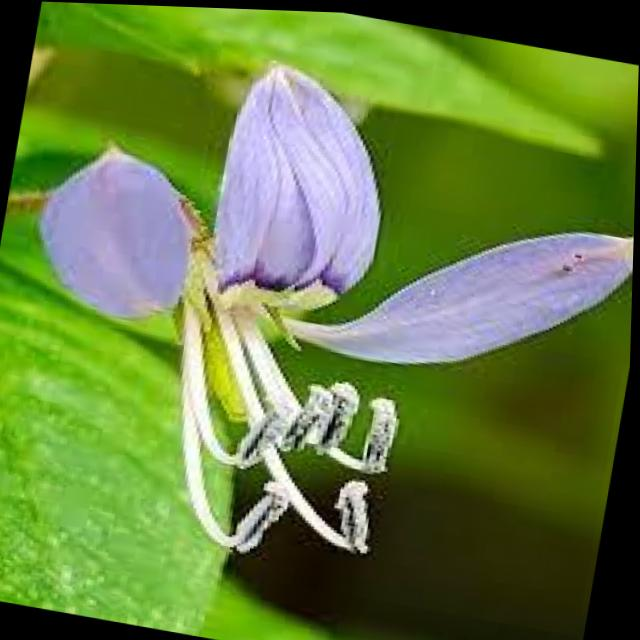Flower: (0, 24, 639, 593)
